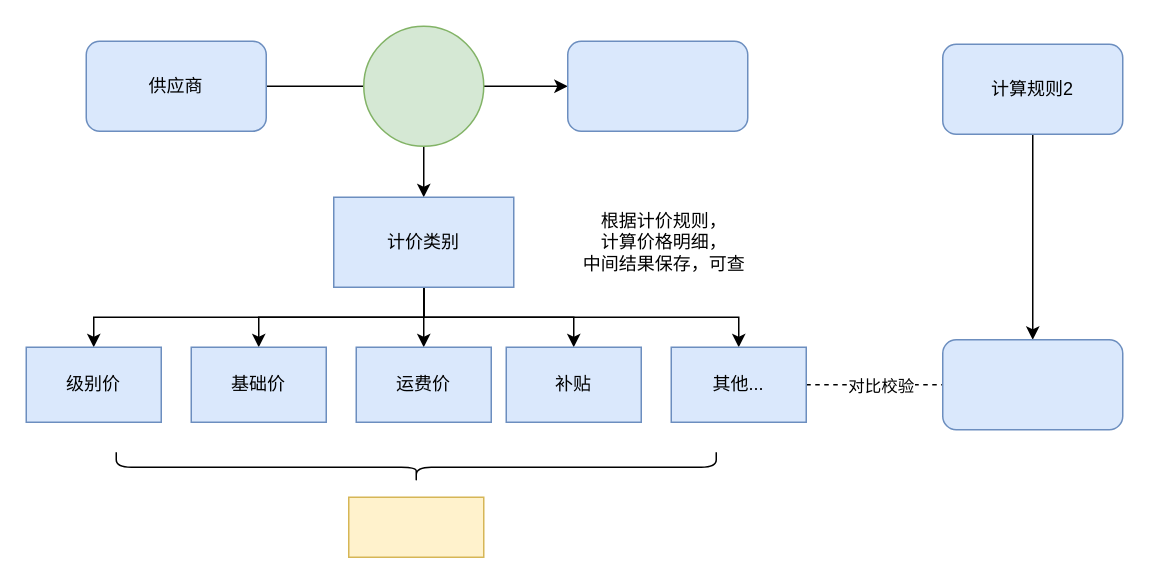
Image size: 1149x584. Some labels were removed from this diagram. Here are the shapes that lost their labels. From the top down, the centre of each, then its label:
point (423, 85): 牛奶
point (657, 85): 工厂
point (1032, 384): 价格明细2
point (415, 526): 最终价
